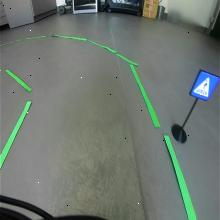crosswalk: (189, 69, 219, 102)
